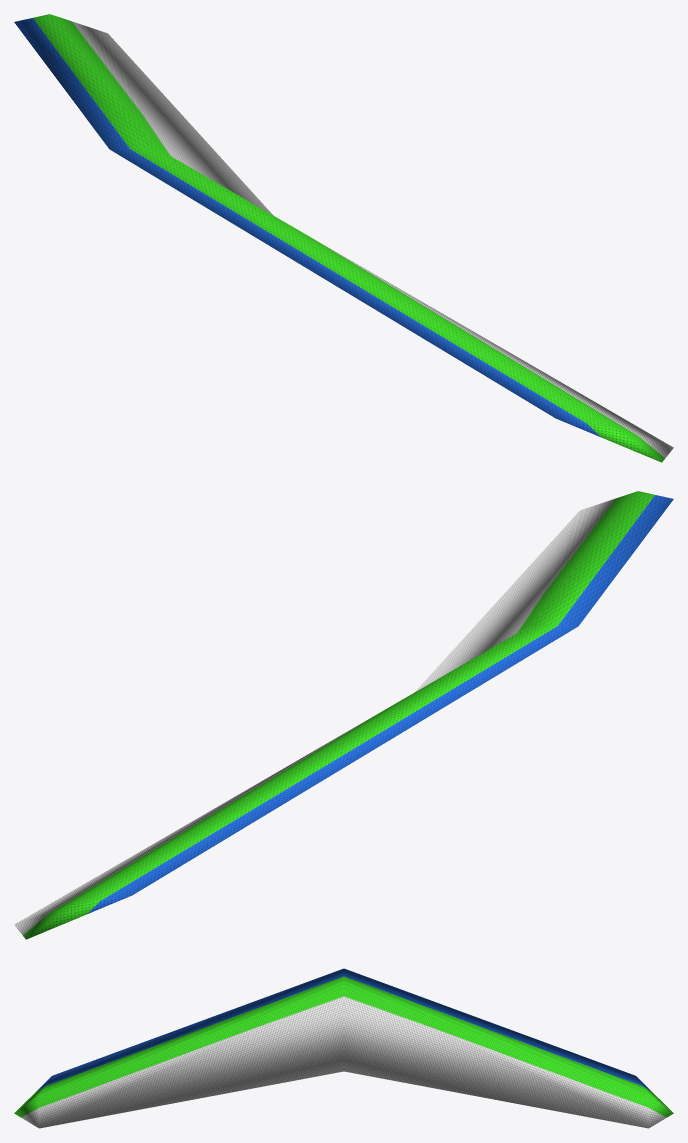
The model's file is hang-glider-green-launch-cbj_LOD03.gltf.
3 renders of one model, top to bottom at view 1: azimuth 30°, elevation 25°; view 2: azimuth 150°, elevation 25°; view 3: azimuth 270°, elevation 25°, orthographic. The views are drawn at different scales.
Parts seen in each view (by area): view 1: hang-glider04; view 2: hang-glider04; view 3: hang-glider04.
Boxes of the visible parts, left/top/right/bottom form: hang-glider04: left=14, top=14, right=673, bottom=462; hang-glider04: left=14, top=491, right=673, bottom=939; hang-glider04: left=14, top=968, right=673, bottom=1128.
Size of what is drawn, in the model's own units: 2.67 by 1.45 by 10.05.
